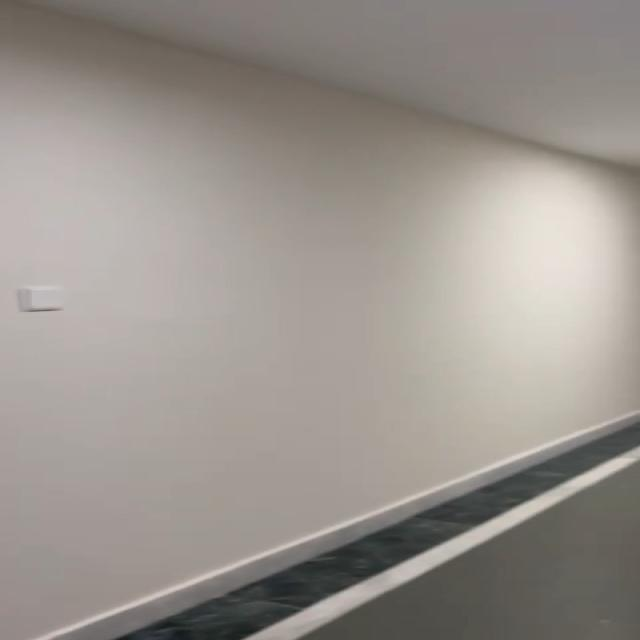floor: (216, 489, 640, 640)
wall: (0, 0, 639, 472)
